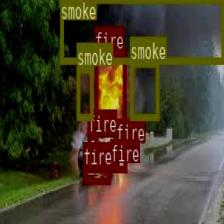fire: (94, 50, 125, 136), (82, 166, 110, 182), (115, 141, 127, 171), (86, 132, 98, 148), (110, 162, 116, 172)
smoke: (60, 0, 224, 63), (130, 60, 158, 119), (76, 66, 92, 119)
